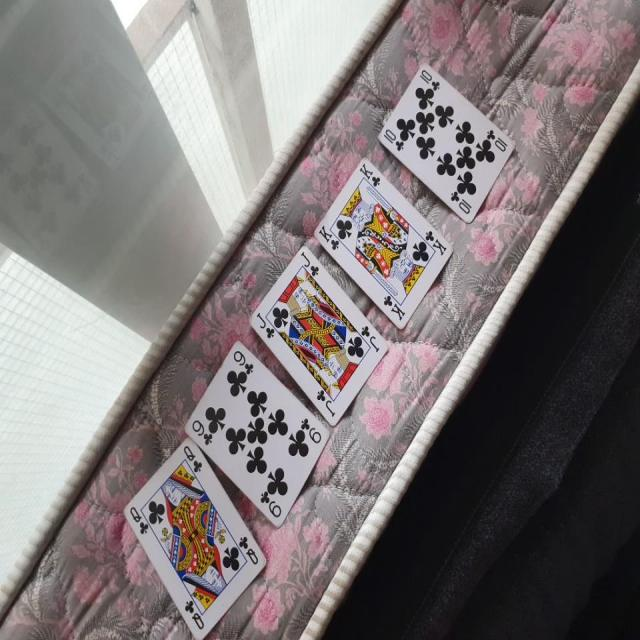10 Trefoils: (378, 60, 516, 222)
9 Trefoils: (183, 338, 330, 532)
J Trefoils: (243, 242, 386, 429)
K Trefoils: (314, 156, 454, 332)
Q Trefoils: (123, 438, 268, 635)
